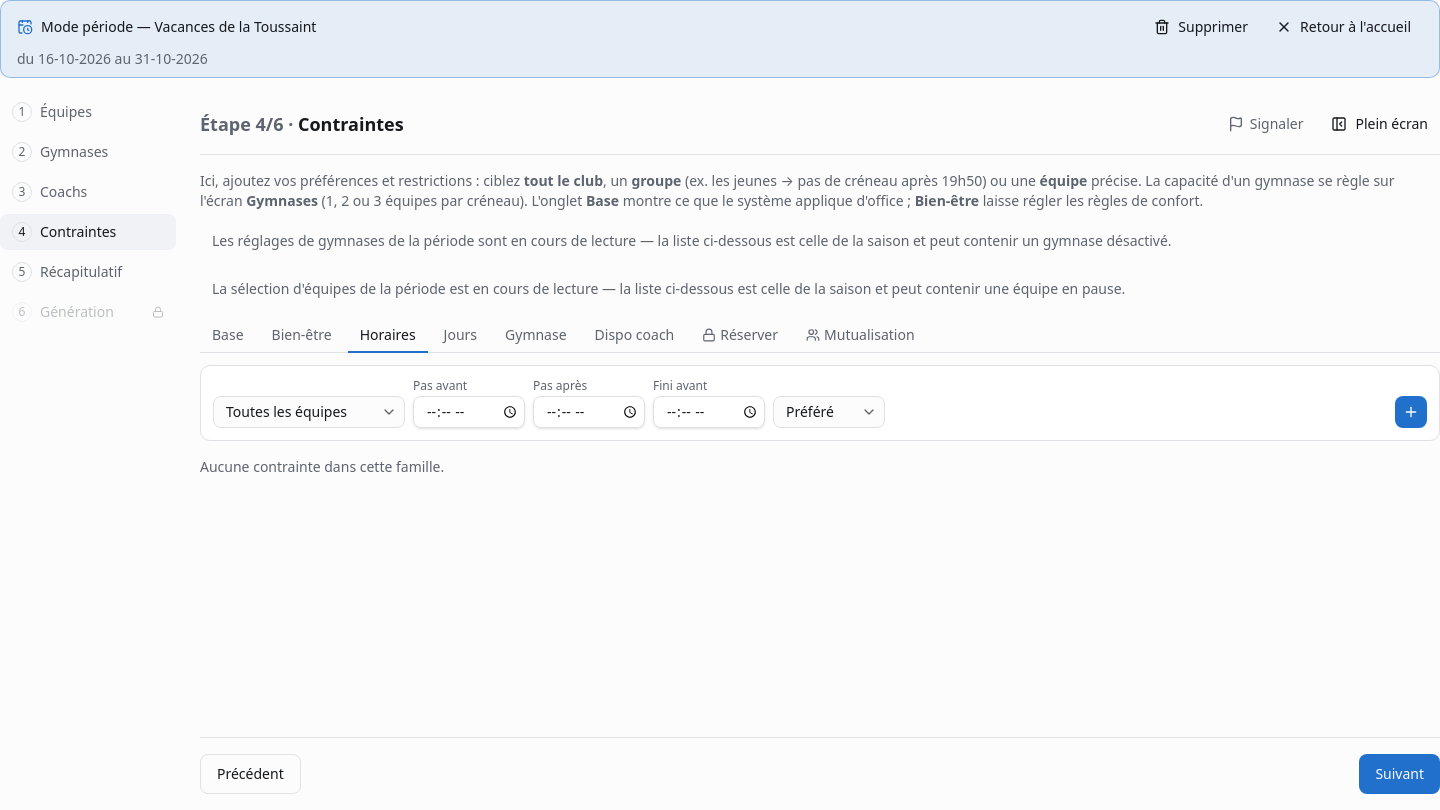
Wizard (integration) › confirm does NOT delete when the fresh server read reveals a version launched meanwhile
Click the button "Retour à l'accueil": (1344, 27) [1264,9,1423,45]
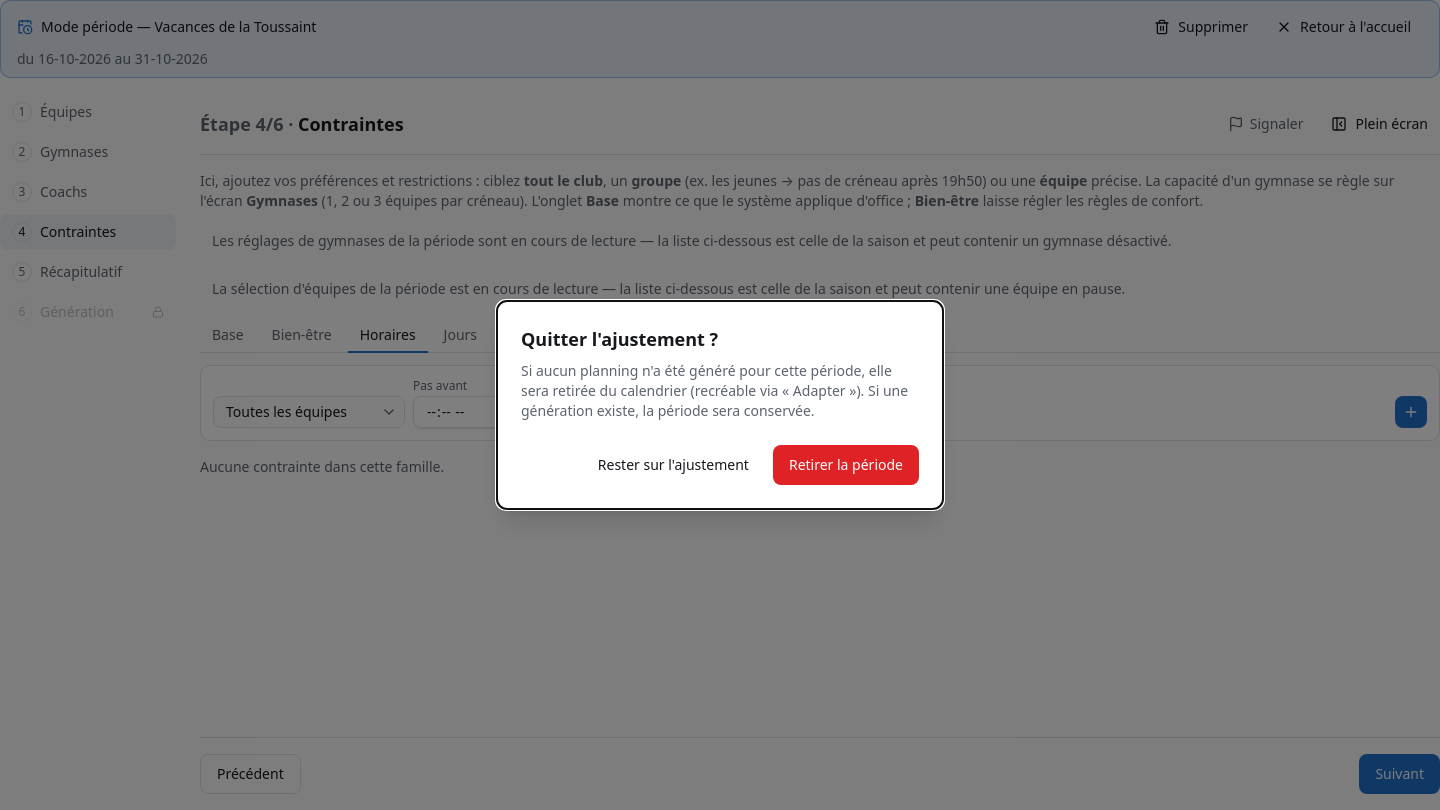
Click the button "Retirer la période": (846, 465) [773,445,919,485]
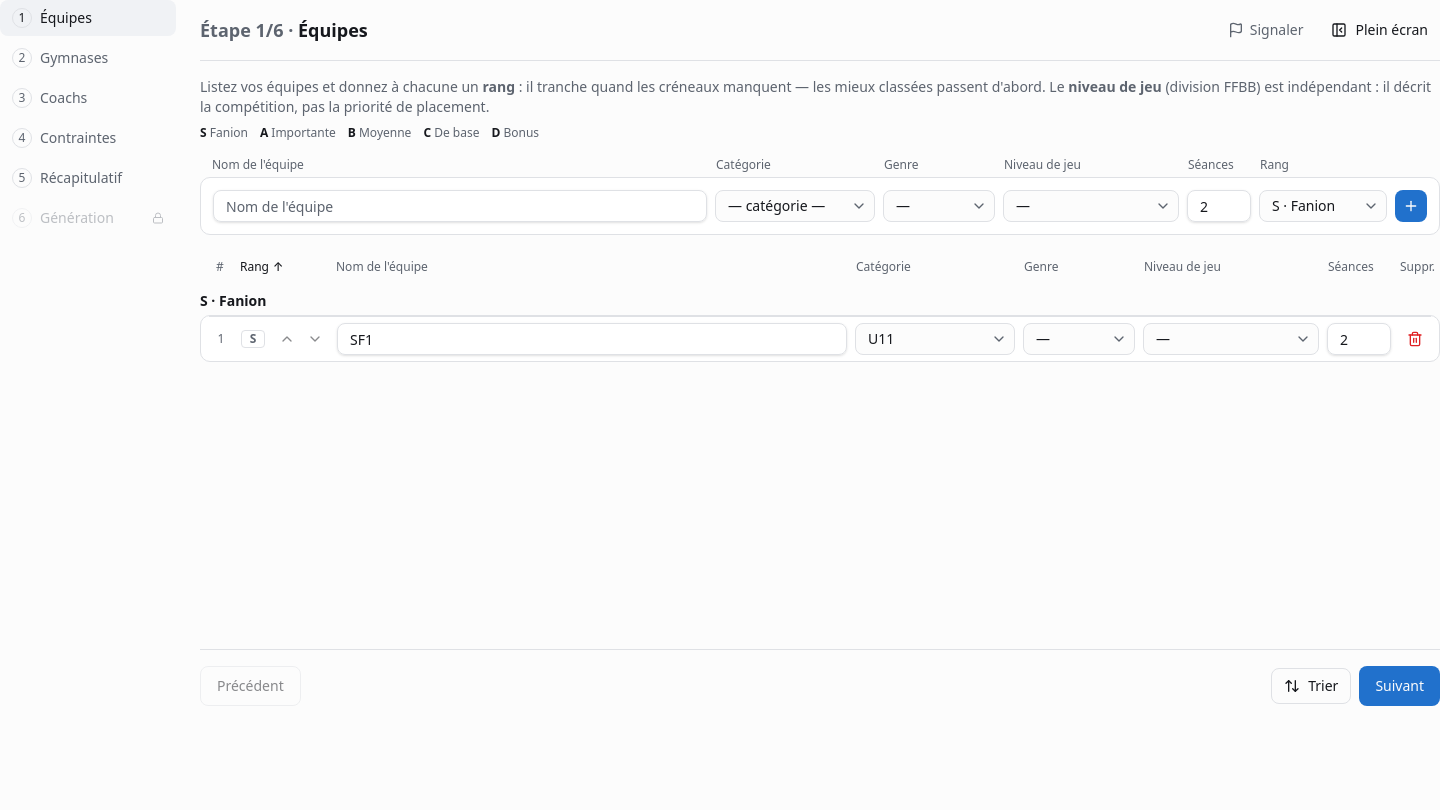
Expected: the dialog is gone
